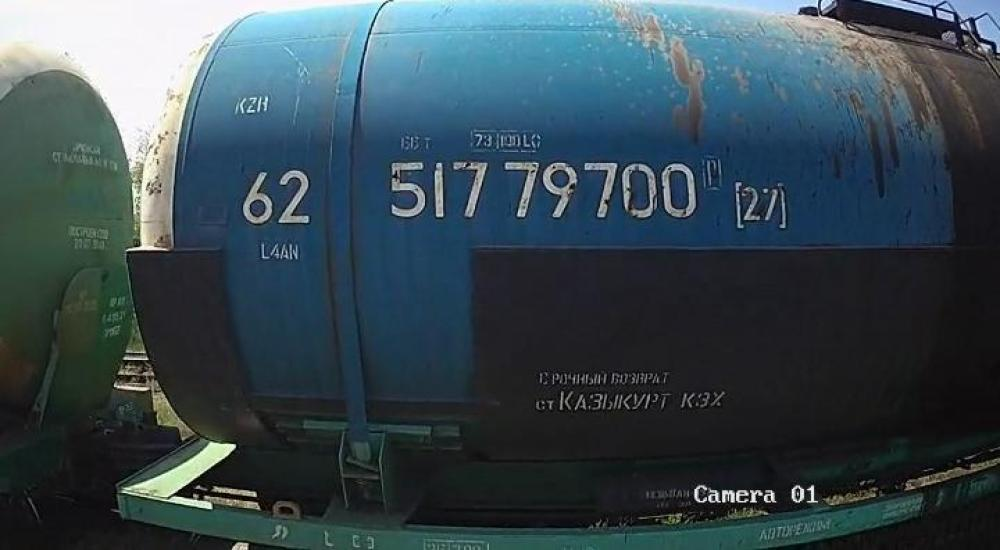Wagon-number: (384, 153, 700, 224)
